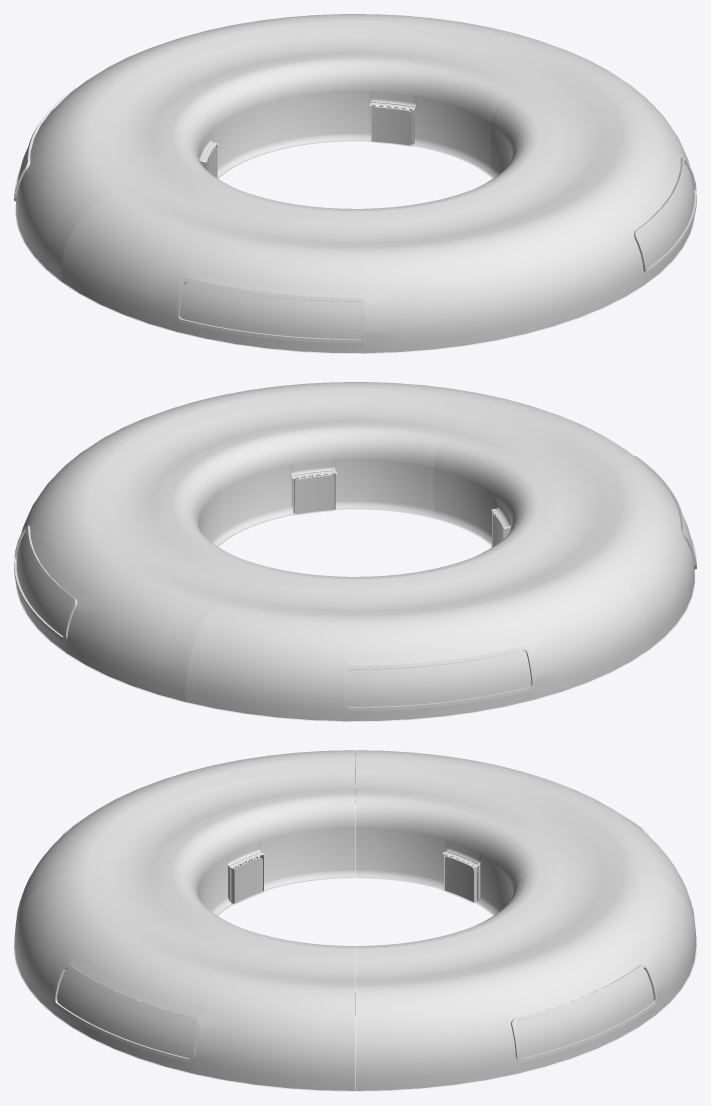
3 renders of one model, top to bottom at view 1: azimuth 30°, elevation 25°; view 2: azimuth 150°, elevation 25°; view 3: azimuth 270°, elevation 25°, orthographic.
Parts seen in each view (by area): view 1: Base.001, Base, Base.003, Base.002, Window.001, Window; view 2: Base.002, Base.003, Base, Base.001, Window.002, Window.003; view 3: Base.003, Base, Base.002, Base.001, Window.003, Window.
Boxes of the visible parts, x1,y1,x2,y2 form: Base.001: [61, 172, 524, 353]; Base: [442, 75, 696, 334]; Base.003: [206, 14, 622, 172]; Base.002: [14, 31, 280, 281]; Window.001: [179, 282, 362, 338]; Window: [638, 163, 694, 268]; Base.002: [186, 540, 649, 721]; Base.003: [14, 443, 268, 702]; Base: [88, 382, 504, 540]; Base.001: [430, 399, 696, 649]; Window.002: [348, 650, 531, 706]; Window.003: [16, 531, 72, 636]; Base.003: [355, 871, 696, 1091]; Base: [14, 871, 355, 1091]; Base.002: [355, 750, 696, 947]; Base.001: [14, 750, 355, 947]; Window.003: [515, 968, 653, 1058]; Window: [57, 968, 195, 1058].
Size of what is drawn, in the model's own units: 65.14 by 7.99 by 65.14.
Materials: 1 (1 with a texture image).
